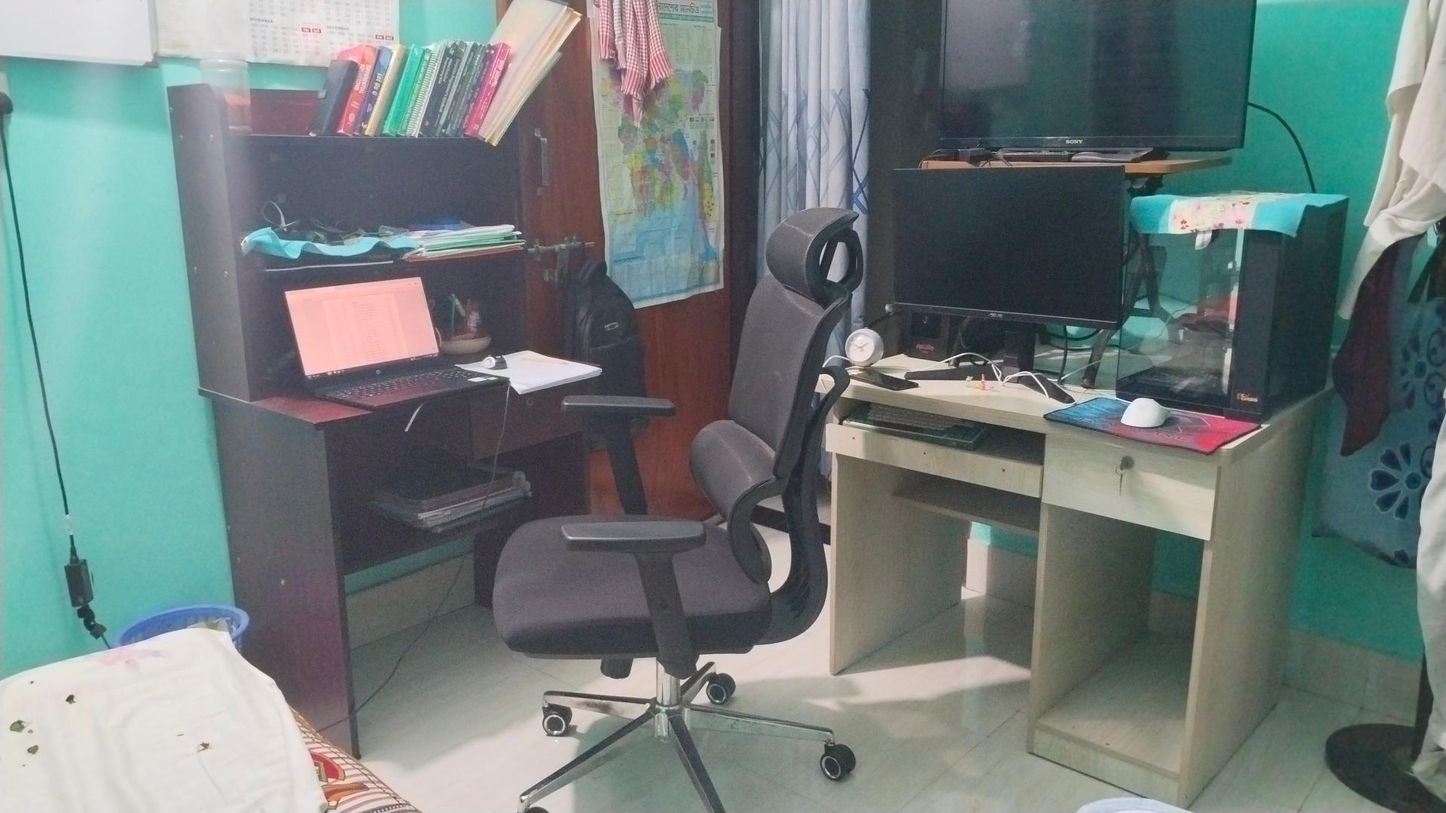Bag: (542, 233, 663, 442)
Book: (299, 21, 495, 142), (372, 457, 528, 534), (377, 180, 520, 262)
Chair: (500, 199, 865, 813)
Clock: (845, 326, 885, 360)
Drawer: (1036, 426, 1205, 539)
Jar: (200, 49, 261, 139)
Keyboard: (839, 396, 985, 452)
Laptop: (259, 269, 484, 404)
Monitor: (928, 0, 1269, 153), (885, 145, 1119, 320)
Mouse: (1110, 383, 1180, 429)
Phone: (843, 367, 922, 393)
Table: (148, 43, 577, 736), (829, 283, 1341, 775)
